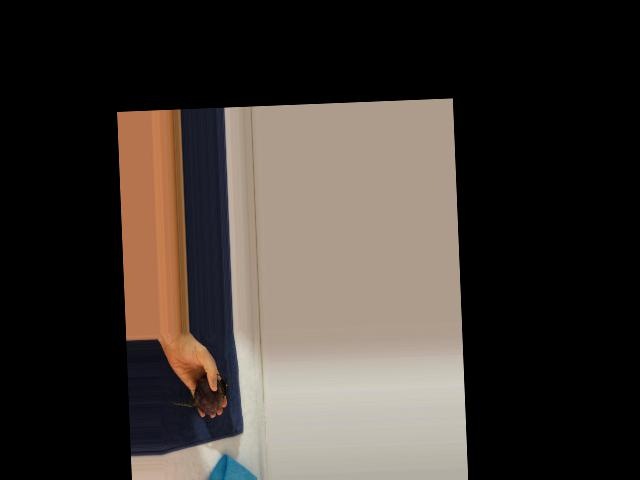beet: (170, 373, 229, 416)
